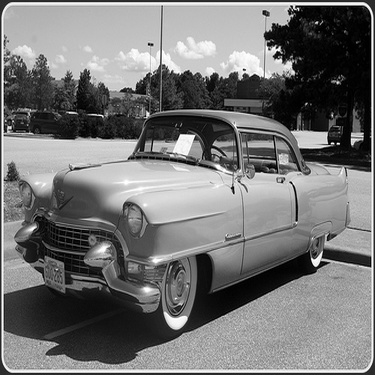car: (15, 90, 368, 313)
